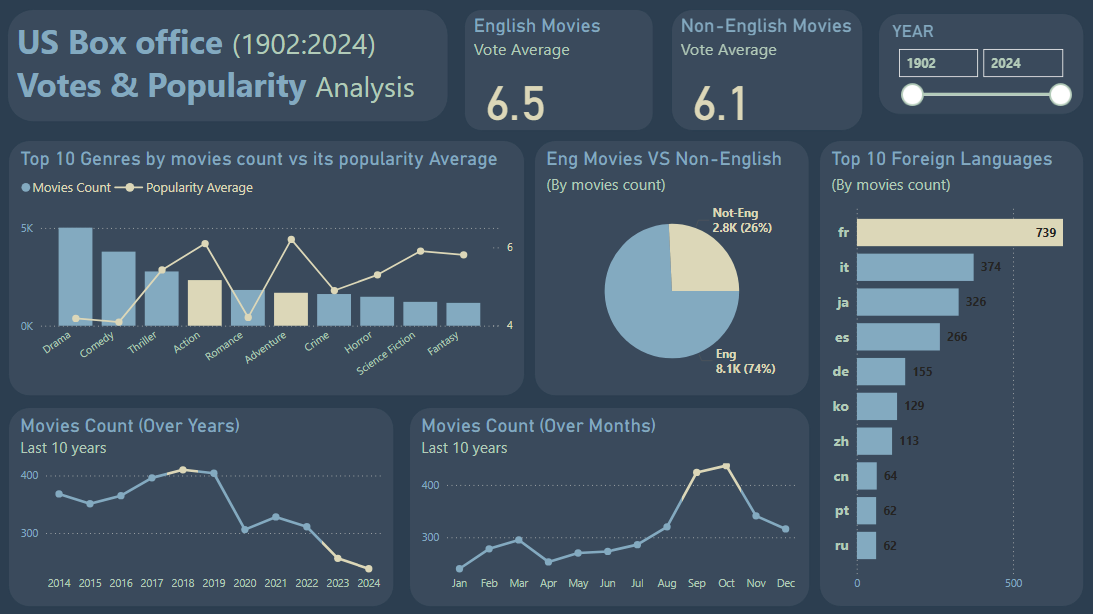

What the dashboard file says about the page in this screenshot:
{"tool":"powerbi","page":{"name":"Page 1","canvas":[1280,720],"ordinal":0},"visuals":[{"type":"textbox","box":[27.7,19.3,503.1,129.1],"z":0},{"type":"cardVisual","title":"English Movies","fields":{"Data":["Avg(unified_tmdb_movies.vote_average)"]},"box":[547.8,19.6,216.4,139.4],"z":1000},{"type":"pieChart","title":"Eng Movies VS Non-English","fields":{"Category":["unified_tmdb_movies.transformed_language"],"Y":["Count(unified_tmdb_movies.movie_id)"]},"box":[627.3,168.8,314.3,292.3],"z":2000},{"type":"slicer","title":"YEAR","fields":{"Values":["unified_tmdb_movies.ReleaseDateFixed.Variation.Date Hierarchy.Year"]},"box":[1019.4,24.1,235.3,115.8],"z":3000},{"type":"lineChart","title":"Movies Count (Over Years)","fields":{"Y":["Count(unified_tmdb_movies.movie_id)"],"Category":["unified_tmdb_movies.ReleaseDateFixed.Variation.Date Hierarchy.Year"]},"box":[28.4,473.1,440.1,227.6],"z":4000},{"type":"clusteredBarChart","title":"Top 10 Foreign Languages","fields":{"Y":["Count(unified_tmdb_movies.movie_id)"],"Category":["unified_tmdb_movies.original_language"]},"box":[952.6,168.8,302,531.9],"z":5000},{"type":"lineClusteredColumnComboChart","title":"Top 10 Genres by movies count vs its popularity Average","fields":{"Category":["unified_tmdb_movies.genre_name"],"Y":["Count(unified_tmdb_movies.movie_id)"],"Y2":["Avg(unified_tmdb_movies.popularity)"]},"box":[28.1,168.8,589.4,292.3],"z":6000},{"type":"cardVisual","title":"Non-English Movies","fields":{"Data":["Avg(unified_tmdb_movies.vote_average)"]},"box":[783.8,19.6,218.9,139.4],"z":7000},{"type":"lineChart","title":"Movies Count (Over Months)","fields":{"Y":["Count(unified_tmdb_movies.movie_id)"],"Category":["unified_tmdb_movies.MonthShort"]},"box":[485.1,473.1,456.6,227.6],"z":8000}]}

Visuals, with their boxes in screenshot pixels (x1, y1, x2, y2), scaled from the page's 1280x720 canvas onto the 1093x614 screenshot:
textbox: rect(24, 16, 453, 127)
"English Movies" cardVisual: rect(468, 17, 653, 136)
"Eng Movies VS Non-English" pieChart: rect(536, 144, 804, 393)
"YEAR" slicer: rect(870, 21, 1071, 119)
"Movies Count (Over Years)" lineChart: rect(24, 403, 400, 598)
"Top 10 Foreign Languages" clusteredBarChart: rect(813, 144, 1071, 598)
"Top 10 Genres by movies count vs its popularity Average" lineClusteredColumnComboChart: rect(24, 144, 527, 393)
"Non-English Movies" cardVisual: rect(669, 17, 856, 136)
"Movies Count (Over Months)" lineChart: rect(414, 403, 804, 598)
